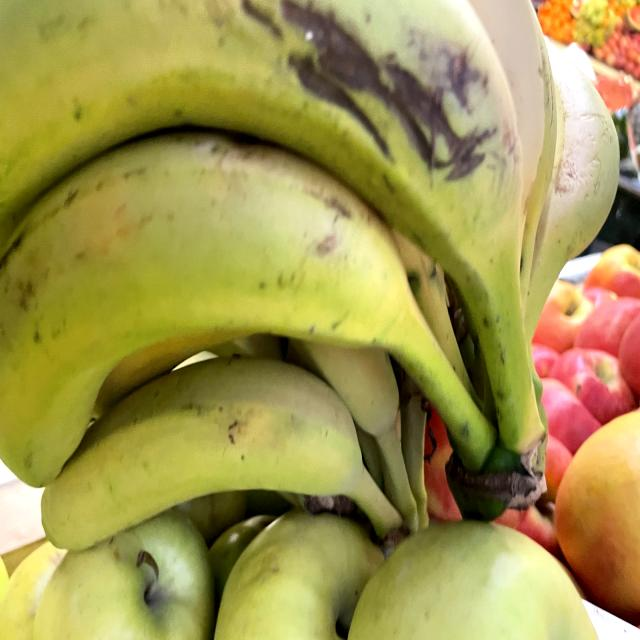banana: (41, 345, 402, 555)
